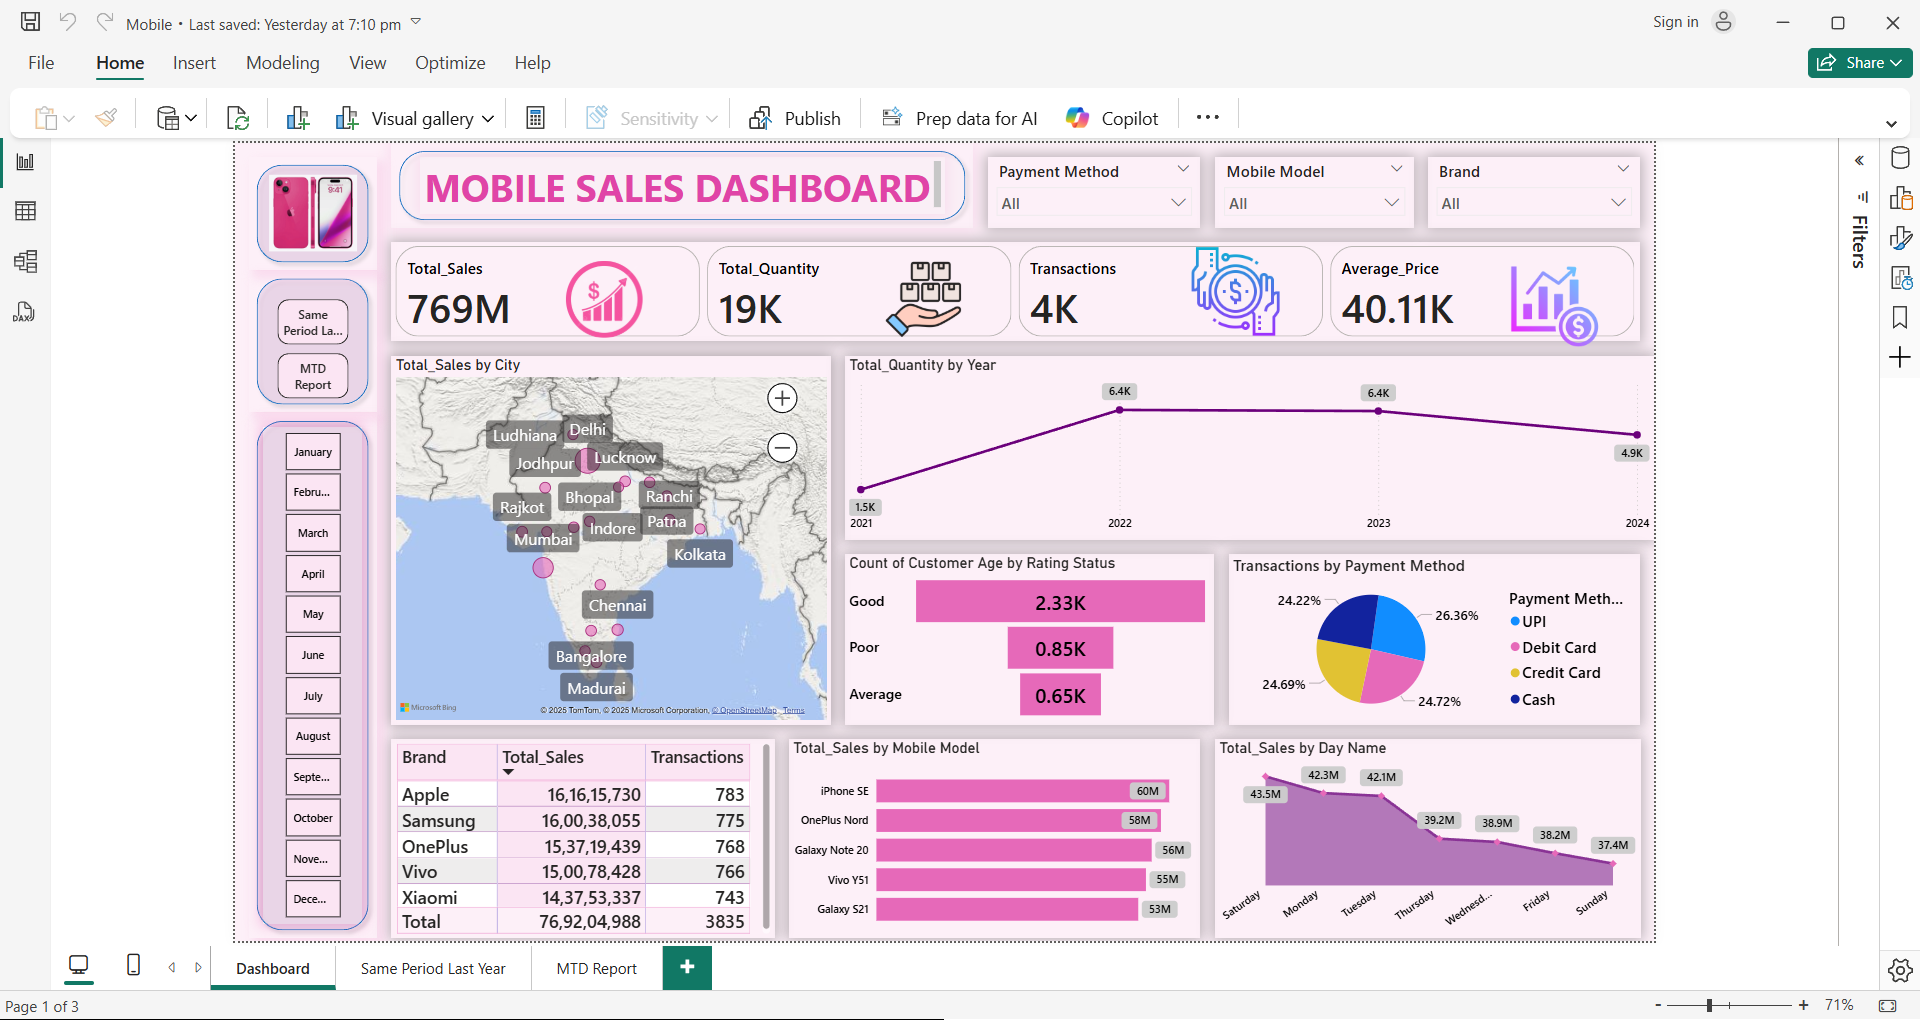

The page's visual inventory and layout, read from the dashboard file:
{"tool":"powerbi","page":{"name":"Dashboard","canvas":[1600,900],"ordinal":0},"visuals":[{"type":"shape","box":[16,16,144,128],"z":0,"group":"g2"},{"type":"cardVisual","fields":{"Data":["Sales_Data.Total_Sales","Sales_Data.Total_Quantity","Sales_Data.Transactions","Sales_Data.Average_Price"]},"box":[176,112,1408,112],"z":0},{"type":"shape","box":[176,0,656,96],"z":1000},{"type":"shape","box":[16,144,144,160],"z":1000,"group":"g1"},{"type":"textbox","box":[208,16,592,64],"z":2000},{"type":"shape","box":[16,304,144,592],"z":2000,"group":"g3"},{"type":"slicer","fields":{"Values":["Sales_Data.Mobile Model"]},"box":[1104,16,224,80],"z":3000},{"type":"slicer","fields":{"Values":["Custom_Calender.Date.Variation.Date Hierarchy.Month"]},"box":[32,320,112,560],"z":3000,"group":"g3"},{"type":"slicer","fields":{"Values":["Sales_Data.Payment Method"]},"box":[848,16,240,80],"z":4000},{"type":"slicer","fields":{"Values":["Sales_Data.Brand"]},"box":[1344,16,240,80],"z":5000},{"type":"map","fields":{"Category":["Sales_Data.City"],"Size":["Sales_Data.Total_Sales"]},"box":[176,240,496,416],"z":6000},{"type":"lineChart","fields":{"Category":["Custom_Calender.Date.Variation.Date Hierarchy.Year","Custom_Calender.Date.Variation.Date Hierarchy.Month"],"Y":["Sales_Data.Total_Quantity"]},"box":[688,240,912,208],"z":7000},{"type":"funnel","fields":{"Y":["CountNonNull(Sales_Data.Customer Age)"],"Category":["Sales_Data.Rating Status"]},"box":[688,464,416,192],"z":8000},{"type":"pieChart","fields":{"Y":["Sales_Data.Transactions"],"Category":["Sales_Data.Payment Method"]},"box":[1120,464,464,192],"z":9000},{"type":"clusteredBarChart","fields":{"Y":["Sales_Data.Total_Sales"],"Category":["Sales_Data.Mobile Model"]},"box":[624,672,464,224],"z":10000},{"type":"areaChart","fields":{"Y":["Sales_Data.Total_Sales"],"Category":["Custom_Calender.Day Name"]},"box":[1104,672,480,224],"z":11000},{"type":"tableEx","fields":{"Values":["Sales_Data.Brand","Sales_Data.Total_Sales","Sales_Data.Transactions"]},"box":[176,672,432,224],"z":12000},{"type":"image","box":[352,128,128,96],"z":13000},{"type":"image","box":[720,128,112,96],"z":14000},{"type":"image","box":[1408,128,160,112],"z":15000},{"type":"image","box":[1040,112,176,112],"z":16000},{"type":"group","id":"g1","title":"Group 2","box":[16,144,144,160],"z":17000},{"type":"pageNavigator","box":[48,176,80,112],"z":17000,"group":"g1"},{"type":"group","id":"g2","title":"Group 3","box":[0,16,176,128],"z":18000},{"type":"image","box":[0,32,176,96],"z":18000,"group":"g2"},{"type":"group","id":"g3","title":"Group 1","box":[16,304,144,592],"z":19000}]}

Visuals, with their boxes on the page's 1600x900 design canvas (x1, y1, x2, y2). These are canvas units, not pixel positions in the 1920x1020 screenshot, which may show the page scaled, cropped or inside an application window:
shape: <region>16, 16, 160, 144</region>
cardVisual - Sales_Data.Total_Sales x Sales_Data.Total_Quantity: <region>176, 112, 1584, 224</region>
shape: <region>176, 0, 832, 96</region>
shape: <region>16, 144, 160, 304</region>
textbox: <region>208, 16, 800, 80</region>
shape: <region>16, 304, 160, 896</region>
slicer - Sales_Data.Mobile Model: <region>1104, 16, 1328, 96</region>
slicer - Custom_Calender.Date.Variation.Date Hierarchy.Month: <region>32, 320, 144, 880</region>
slicer - Sales_Data.Payment Method: <region>848, 16, 1088, 96</region>
slicer - Sales_Data.Brand: <region>1344, 16, 1584, 96</region>
map - Sales_Data.City x Sales_Data.Total_Sales: <region>176, 240, 672, 656</region>
lineChart - Custom_Calender.Date.Variation.Date Hierarchy.Year x Custom_Calender.Date.Variation.Date Hierarchy.Month: <region>688, 240, 1600, 448</region>
funnel - CountNonNull(Sales_Data.Customer Age) x Sales_Data.Rating Status: <region>688, 464, 1104, 656</region>
pieChart - Sales_Data.Transactions x Sales_Data.Payment Method: <region>1120, 464, 1584, 656</region>
clusteredBarChart - Sales_Data.Total_Sales x Sales_Data.Mobile Model: <region>624, 672, 1088, 896</region>
areaChart - Sales_Data.Total_Sales x Custom_Calender.Day Name: <region>1104, 672, 1584, 896</region>
tableEx - Sales_Data.Brand x Sales_Data.Total_Sales: <region>176, 672, 608, 896</region>
image: <region>352, 128, 480, 224</region>
image: <region>720, 128, 832, 224</region>
image: <region>1408, 128, 1568, 240</region>
image: <region>1040, 112, 1216, 224</region>
"Group 2" group: <region>16, 144, 160, 304</region>
pageNavigator: <region>48, 176, 128, 288</region>
"Group 3" group: <region>0, 16, 176, 144</region>
image: <region>0, 32, 176, 128</region>
"Group 1" group: <region>16, 304, 160, 896</region>
